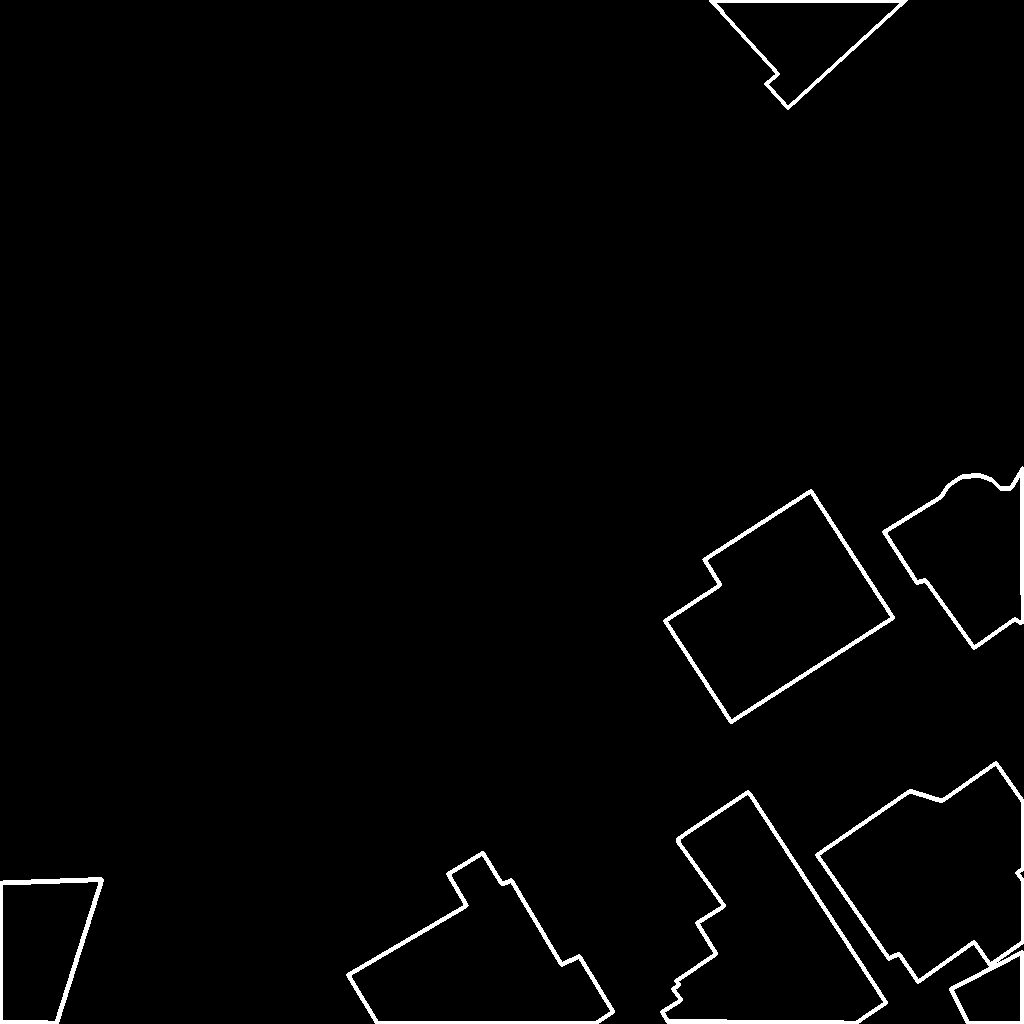building: (665, 491, 894, 723), (662, 792, 887, 1024), (817, 763, 1024, 983), (348, 853, 614, 1024), (884, 468, 1024, 649), (710, 0, 907, 109), (0, 879, 103, 1024), (951, 952, 1024, 1024)
